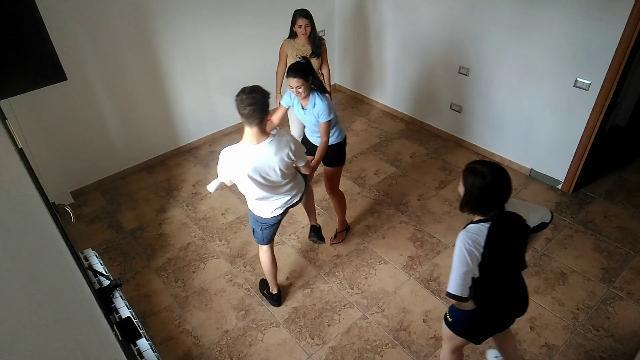non-violence: (437, 158, 555, 358), (278, 8, 339, 144)
violence: (207, 56, 349, 308)
